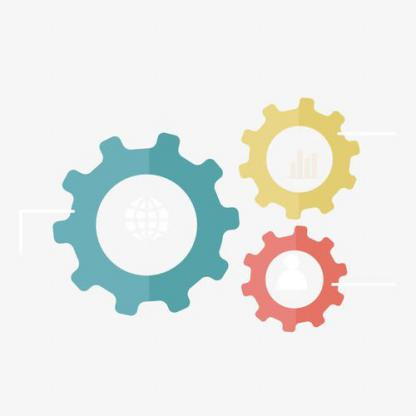FOD: (51, 127, 241, 319), (241, 95, 361, 217), (241, 220, 349, 335)
